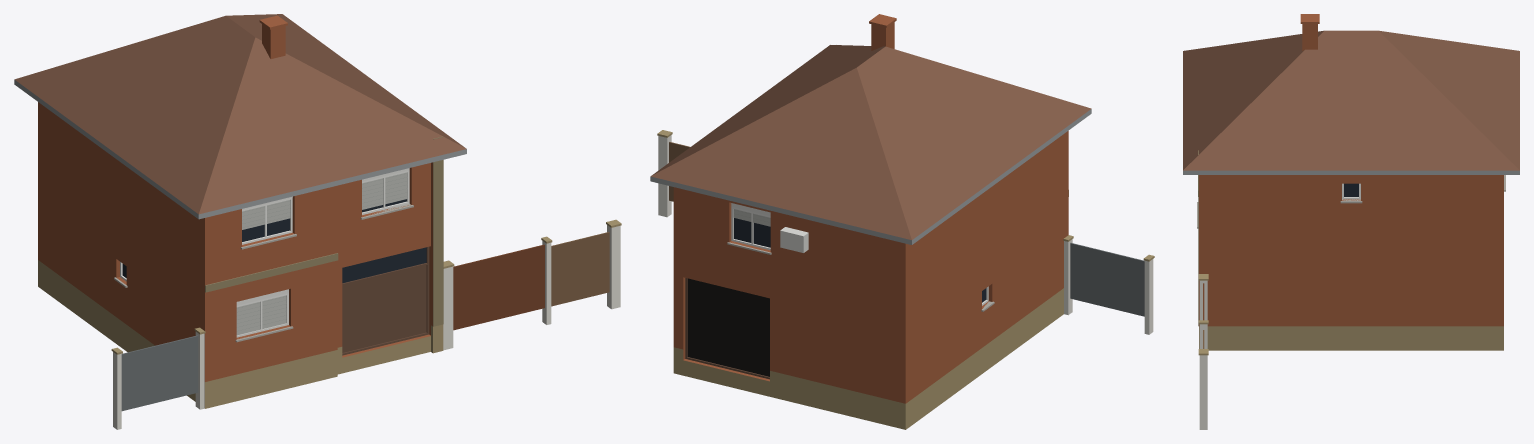
The model's file is kolodvorska642.glb.
3 views of the same model, side by side, from view 1: azimuth 30°, elevation 25°; view 2: azimuth 150°, elevation 25°; view 3: azimuth 270°, elevation 25° (orthographic). The views are drawn at different scales.
Visible parts, largest first — view 1: Kolodvorska 642; view 2: Kolodvorska 642; view 3: Kolodvorska 642.
Part boxes in pixels (x1=…): Kolodvorska 642: x1=14, y1=14, x2=621, y2=429; Kolodvorska 642: x1=650, y1=14, x2=1154, y2=429; Kolodvorska 642: x1=1183, y1=14, x2=1519, y2=429.
Bounding box in the file's own units: 16.74 × 9.87 × 10.6.
